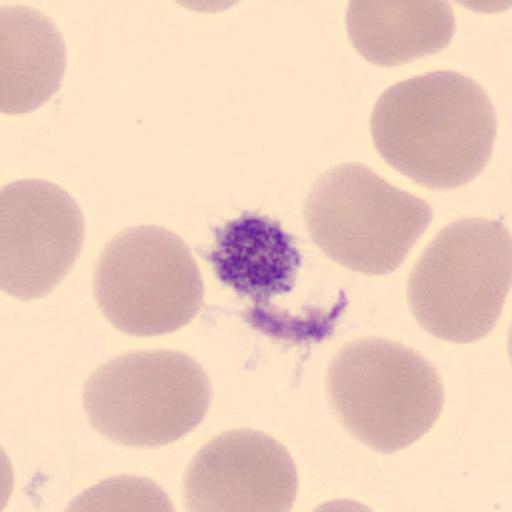Platelet: (205, 208, 307, 305)
RBC: (368, 66, 500, 194), (299, 158, 435, 279), (323, 333, 446, 455), (405, 213, 512, 347), (80, 347, 216, 450), (90, 220, 206, 340), (2, 174, 88, 304), (180, 424, 301, 512), (343, 0, 458, 69), (2, 3, 69, 117), (55, 471, 181, 512), (297, 493, 392, 512), (154, 1, 261, 16), (0, 440, 18, 512), (442, 0, 512, 17), (462, 0, 512, 17)
